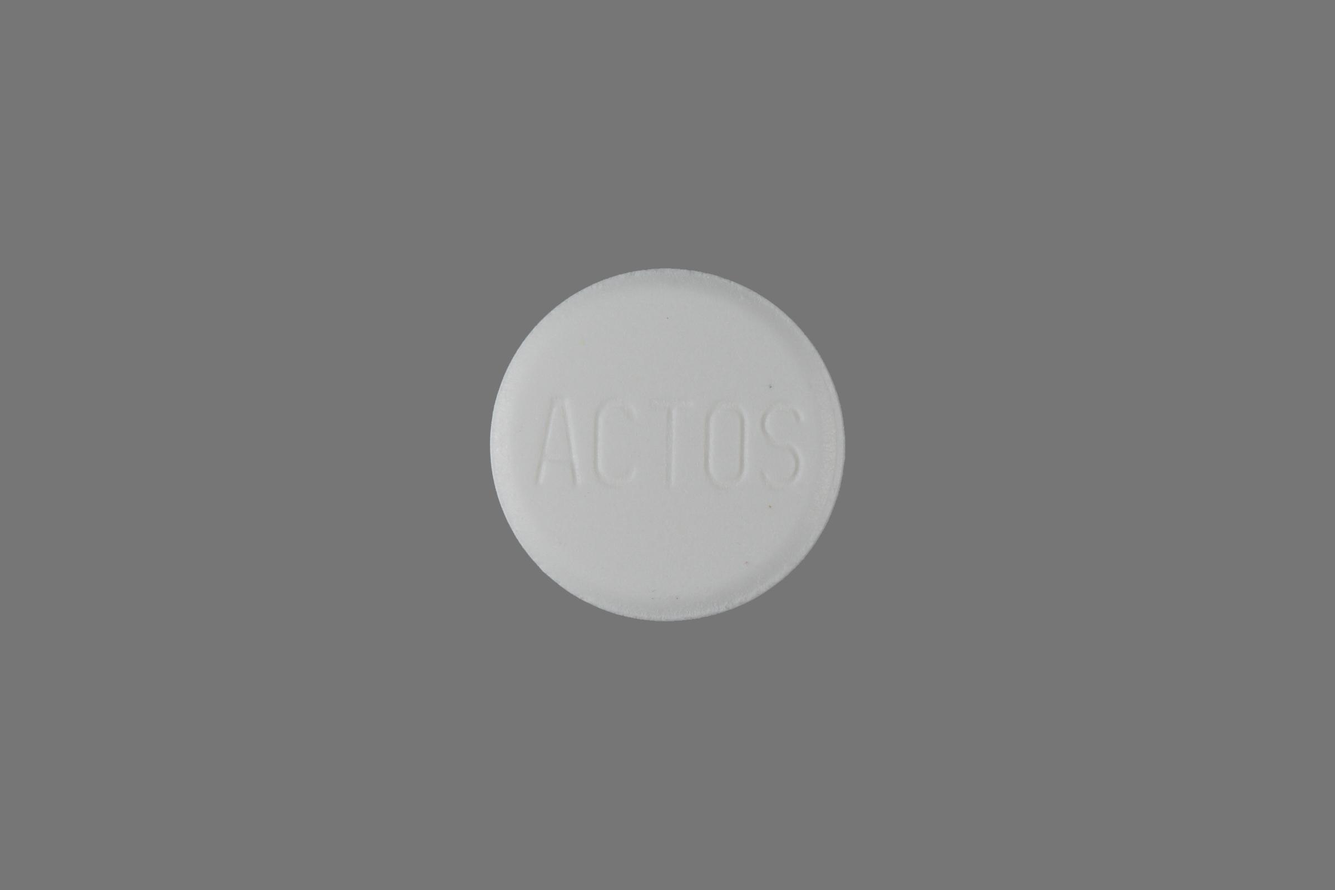Pill: (481, 256, 854, 629)
